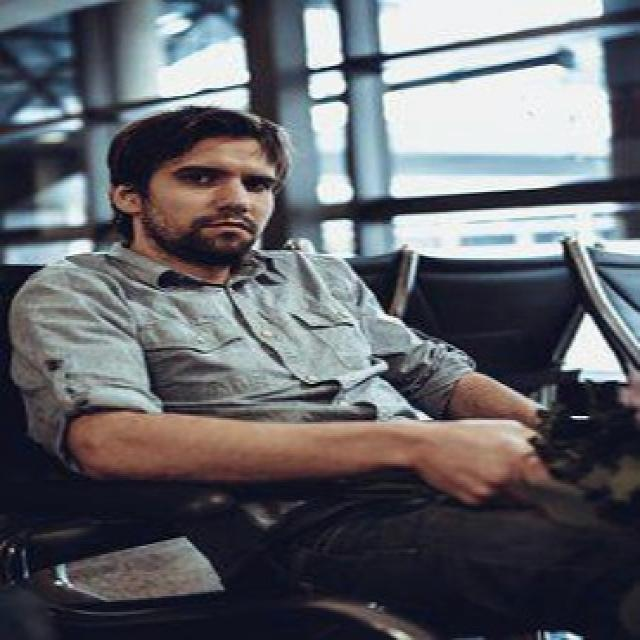adult: (12, 112, 633, 632)
